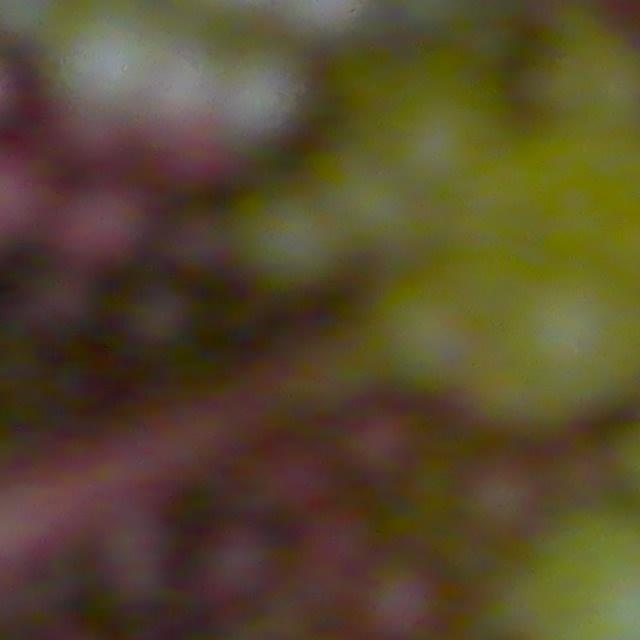SeaGrape: (236, 191, 342, 295), (215, 44, 311, 147), (66, 186, 154, 271), (124, 283, 197, 354), (344, 412, 417, 482), (367, 563, 436, 635)
